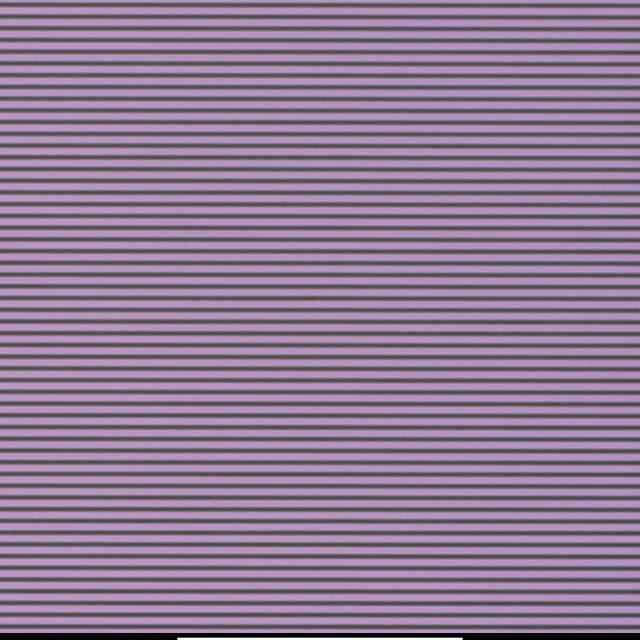03_intrusion: (304, 288, 317, 304)
